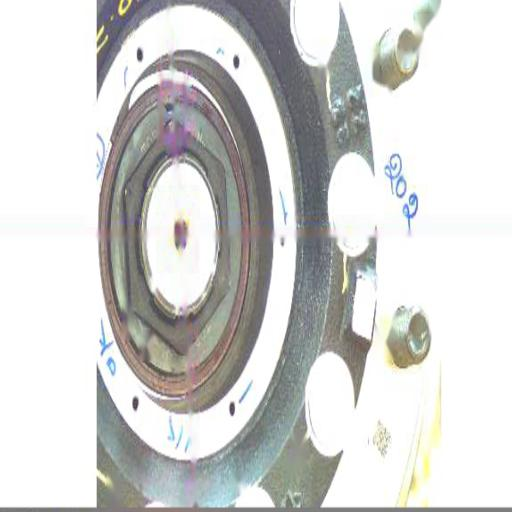center: (168, 221, 191, 256)
notch: (158, 98, 180, 119)
